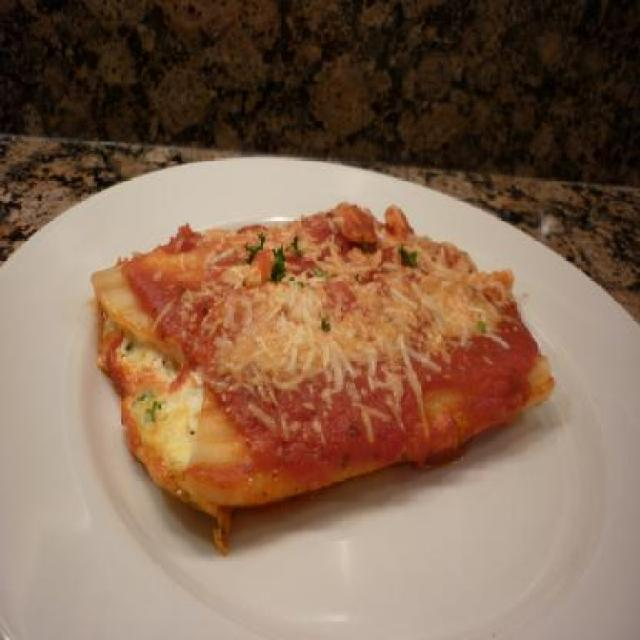Pizza: (104, 208, 532, 530)
